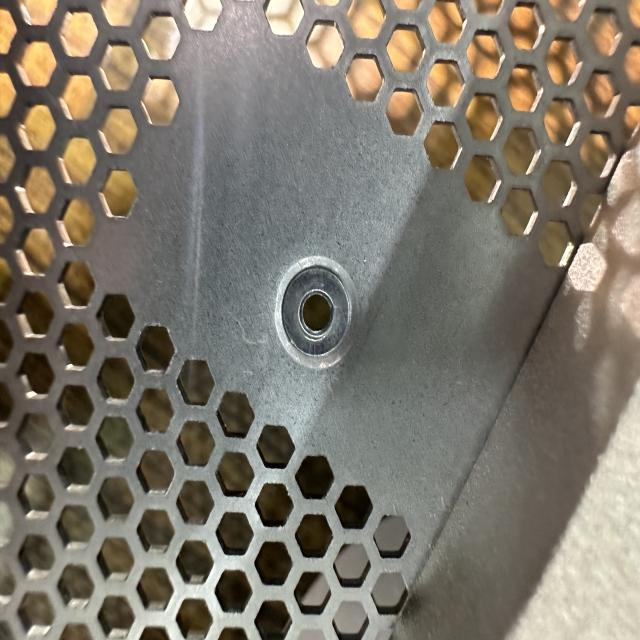Missing screw: (268, 250, 368, 373)
